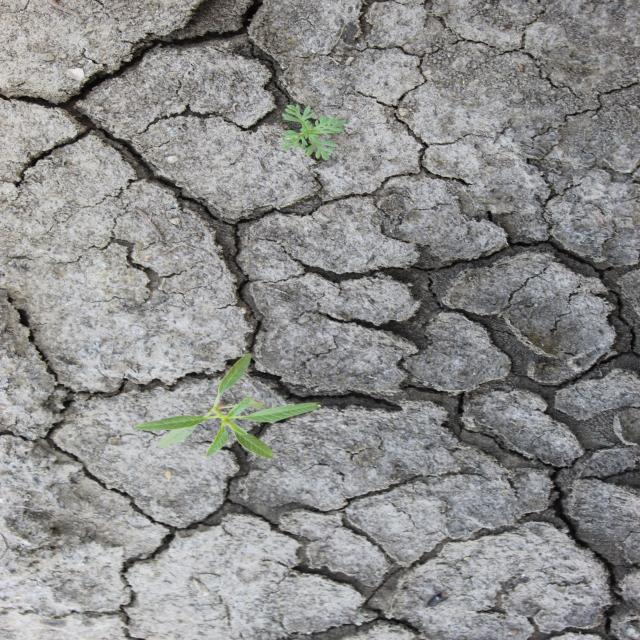Ragweed: (278, 103, 350, 161)
Waterhemp: (131, 352, 322, 460)
